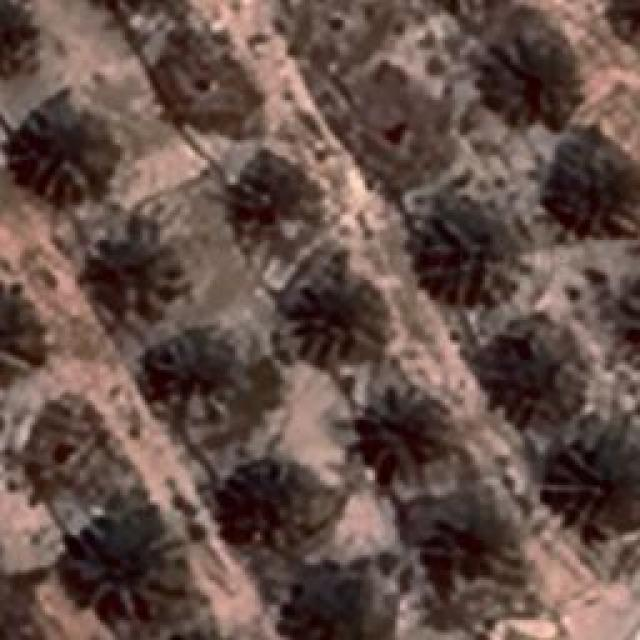PalmTree: (65, 505, 173, 610), (275, 550, 398, 640), (414, 208, 528, 302), (220, 458, 330, 554), (290, 268, 390, 364), (227, 146, 327, 242), (482, 37, 588, 125), (141, 330, 244, 412), (544, 442, 638, 530), (486, 318, 572, 412), (78, 232, 174, 316), (555, 140, 640, 232), (416, 507, 504, 585), (18, 106, 98, 189), (358, 395, 450, 463), (24, 82, 48, 331), (615, 270, 640, 368), (620, 271, 640, 368), (609, 0, 640, 47), (72, 0, 180, 10), (150, 630, 252, 640), (415, 0, 511, 10)
